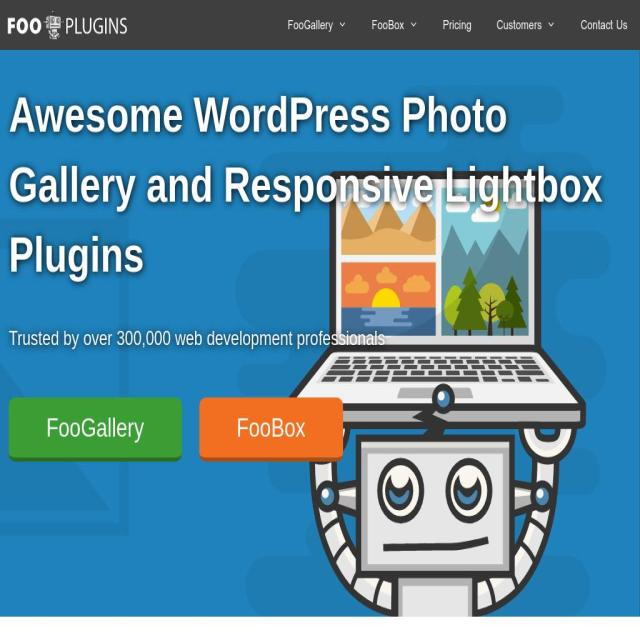button: (9, 398, 182, 462), (199, 398, 343, 462), (6, 0, 134, 50), (275, 0, 359, 50), (484, 0, 568, 50), (358, 0, 431, 50), (567, 0, 640, 50), (430, 0, 484, 50)
heading: (9, 80, 631, 290)
image: (6, 8, 128, 42)
text: (9, 320, 631, 356), (288, 15, 334, 35), (497, 15, 542, 35), (372, 15, 404, 35)
